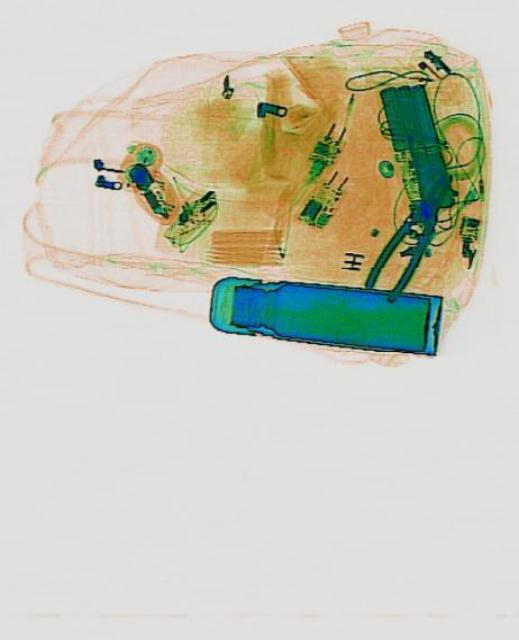Pliers: (360, 160, 462, 306)
